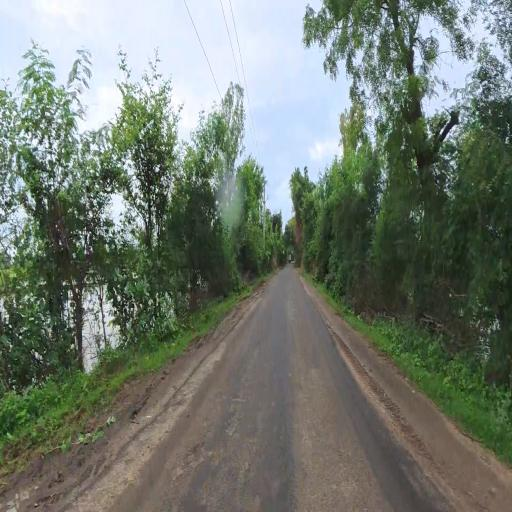ravelling: (172, 381, 252, 511)
